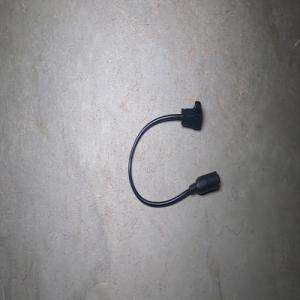Wire: (128, 100, 220, 207)
